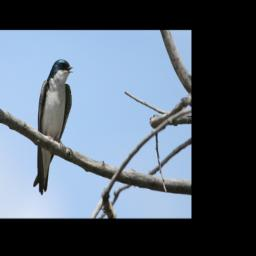Swallow: (33, 59, 74, 195)
